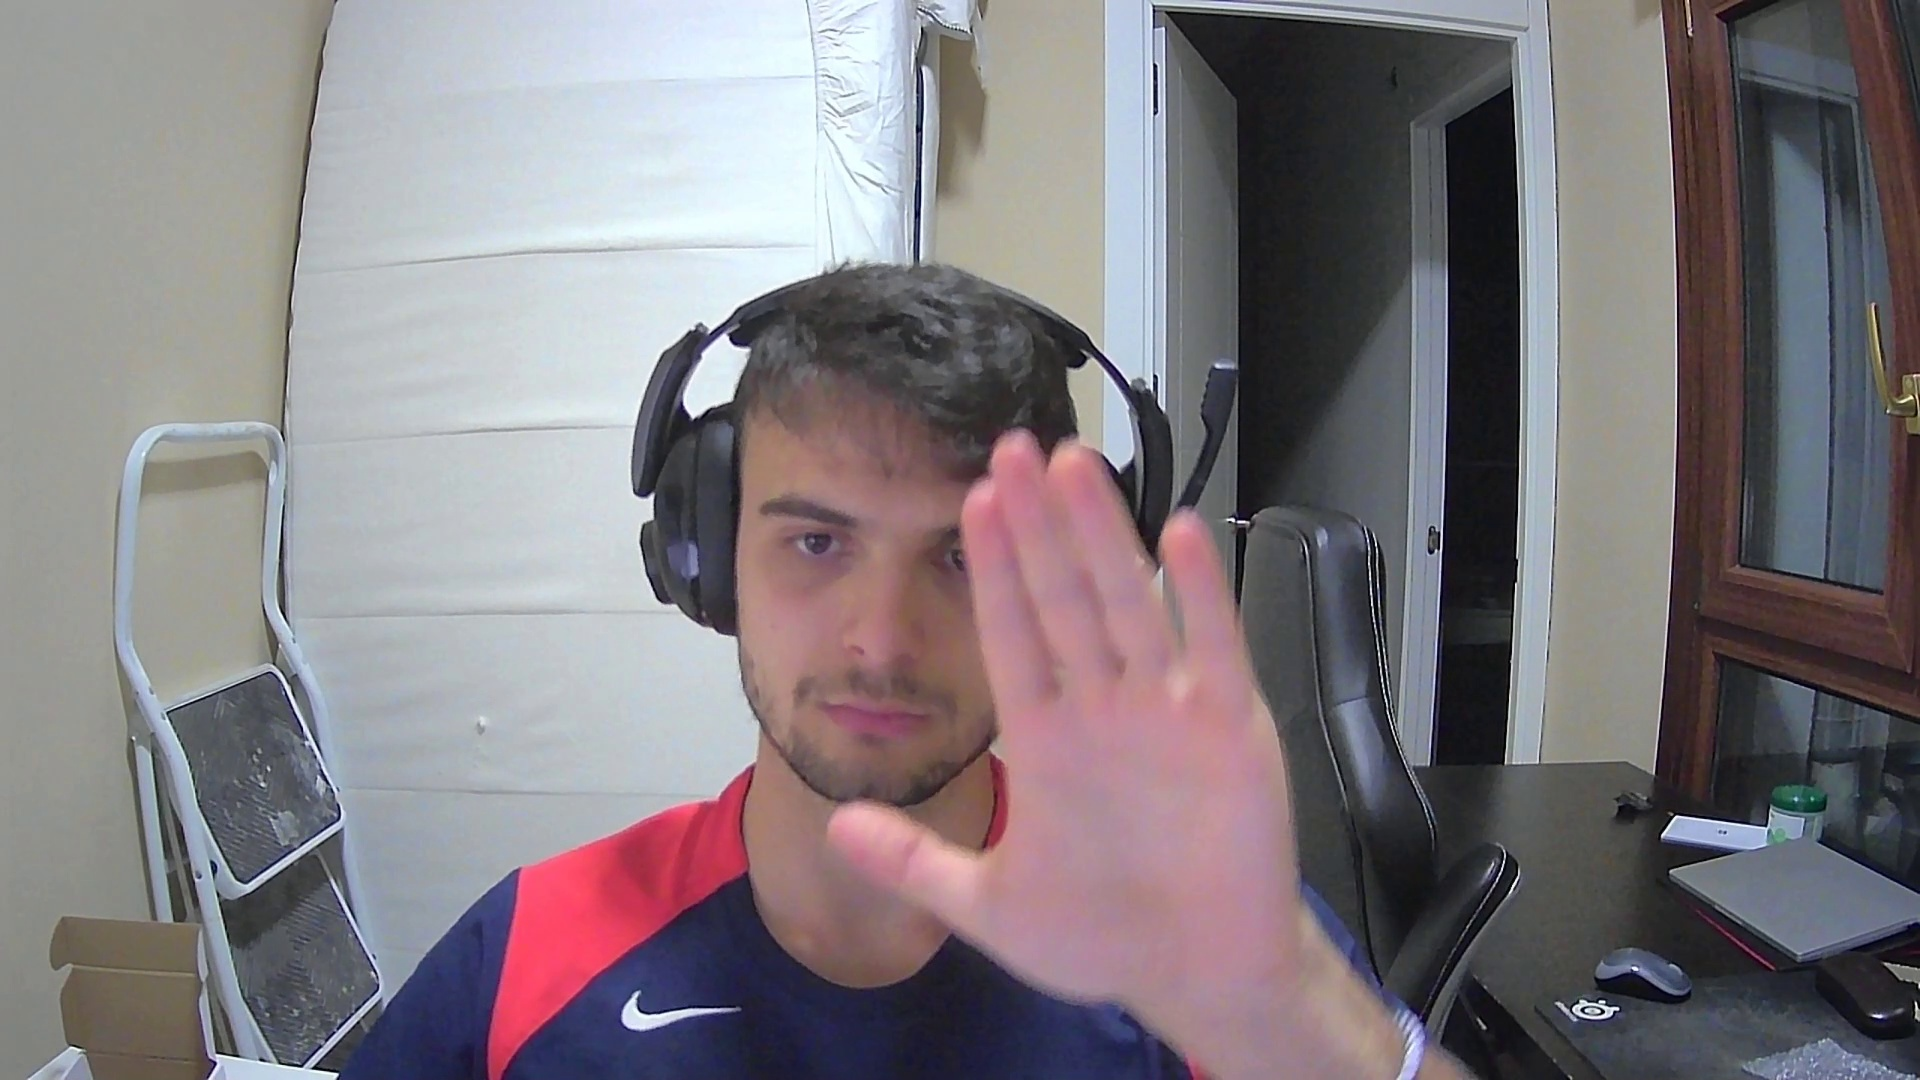Palm: (823, 421, 1300, 1051)
